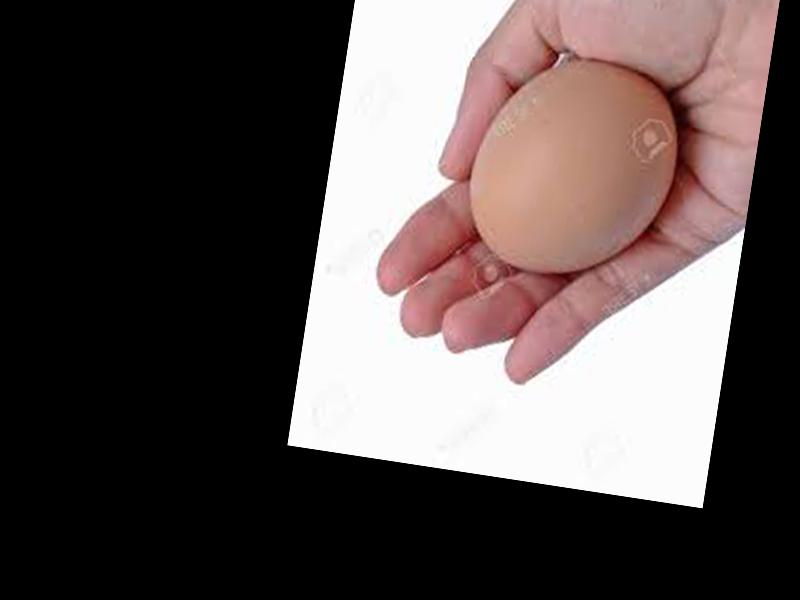Eggs: (458, 43, 687, 290)
